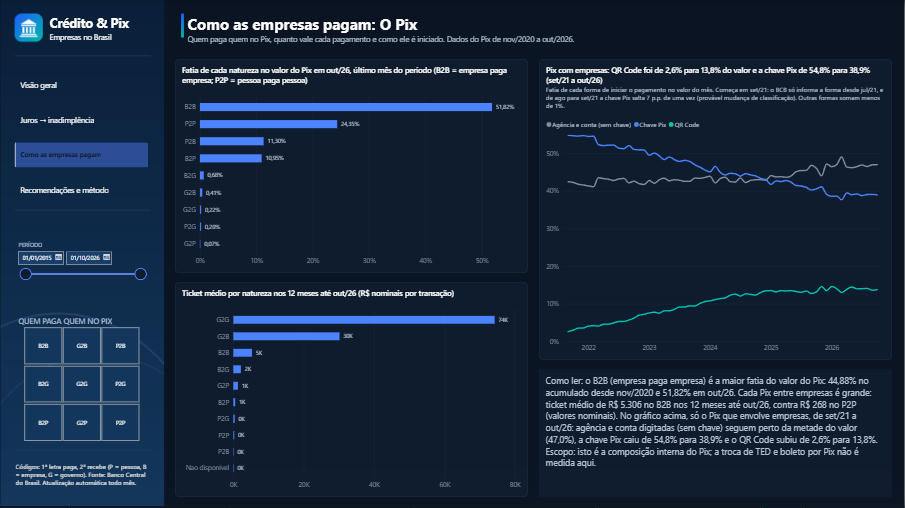

Layout of this report page (visuals, bound fields, positions):
{"tool":"powerbi","page":{"name":"Como as empresas pagam","canvas":[1920,1080],"ordinal":2},"visuals":[{"type":"clusteredBarChart","title":"Fatia de cada natureza no valor total do Pix, acumulado desde nov/2020 (B2B = empresa paga empresa; P2P = pessoa paga pessoa)","fields":{"Category":["dNatureza.natureza"],"Y":["gold_pix_natureza_mensal._Participação no Valor"]},"box":[372,126,750,455],"z":0},{"type":"clusteredBarChart","title":"Ticket médio por natureza (R$ por transação): pagamentos que envolvem governo e empresas são bem maiores","fields":{"Category":["dNatureza.natureza"],"Y":["gold_pix_natureza_mensal._Ticket Médio"]},"box":[372,599,750,457],"z":1},{"type":"hundredPercentStackedColumnChart","title":"Pix que envolve empresas: como o pagamento é iniciado (fatia do valor em cada mês)","fields":{"Category":["gold_pix_empresas_forma_iniciacao.data"],"Series":["gold_pix_empresas_forma_iniciacao.forma_iniciacao_descricao"],"Y":["Sum(gold_pix_empresas_forma_iniciacao.valor)"]},"box":[1146,126,750,640],"z":2},{"type":"textbox","box":[1146,784,750,272],"z":3},{"type":"textbox","box":[92,20,250,92],"z":4},{"type":"pageNavigator","box":[18,142,312,300],"z":5},{"type":"slicer","fields":{"Values":["dCalendario.data"]},"box":[18,500,312,130],"z":6},{"type":"slicer","fields":{"Values":["dNatureza.natureza"]},"box":[18,660,312,290],"z":7},{"type":"textbox","box":[20,972,310,90],"z":8},{"type":"textbox","box":[384,18,1500,96],"z":9}]}

Visuals, with their boxes on the page's 1920x1080 design canvas (x1, y1, x2, y2). These are canvas units, not pixel positions in the 905x508 screenshot, which may show the page scaled, cropped or inside an application window:
"Fatia de cada natureza no valor total do Pix, acumulado desde nov/2020 (B2B = empresa paga empresa; P2P = pessoa paga pessoa)" clusteredBarChart: bbox=[372, 126, 1122, 581]
"Ticket médio por natureza (R$ por transação): pagamentos que envolvem governo e empresas são bem maiores" clusteredBarChart: bbox=[372, 599, 1122, 1056]
"Pix que envolve empresas: como o pagamento é iniciado (fatia do valor em cada mês)" hundredPercentStackedColumnChart: bbox=[1146, 126, 1896, 766]
textbox: bbox=[1146, 784, 1896, 1056]
textbox: bbox=[92, 20, 342, 112]
pageNavigator: bbox=[18, 142, 330, 442]
slicer - dCalendario.data: bbox=[18, 500, 330, 630]
slicer - dNatureza.natureza: bbox=[18, 660, 330, 950]
textbox: bbox=[20, 972, 330, 1062]
textbox: bbox=[384, 18, 1884, 114]
